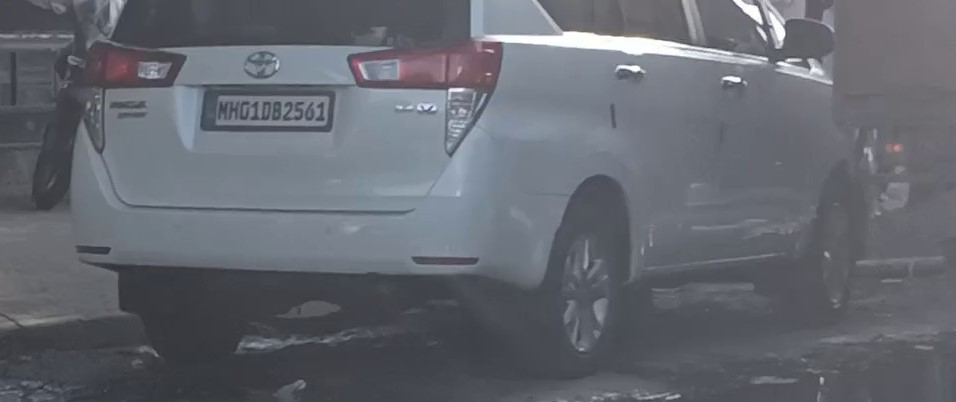MH01DB2561: (205, 94, 330, 126)
